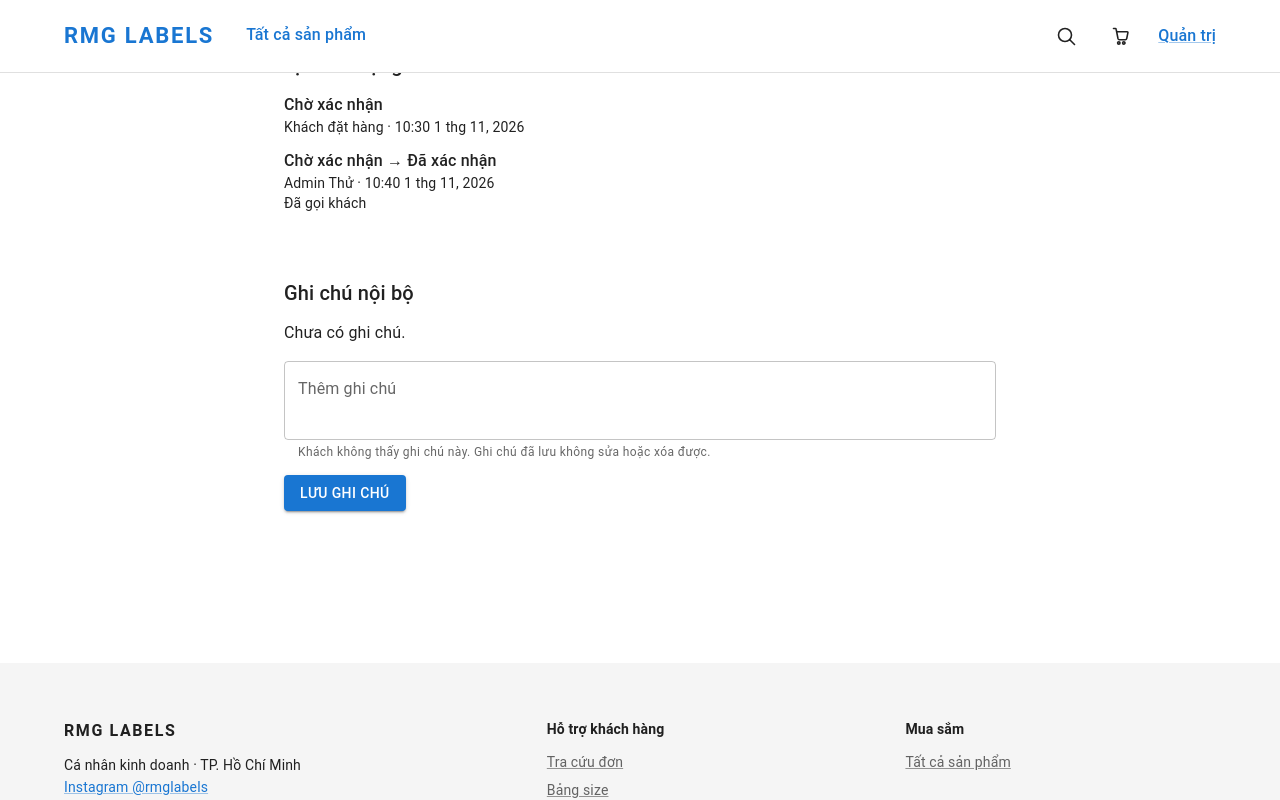
Test case: internal notes › saves a trimmed note with a key, clears the draft and shows it after the refetch
(page scrolled)
Type "  Đã gọi, khách đồng ý  " into the text box labelled "Thêm ghi chú" at [640, 400], box [298,378,982,424]
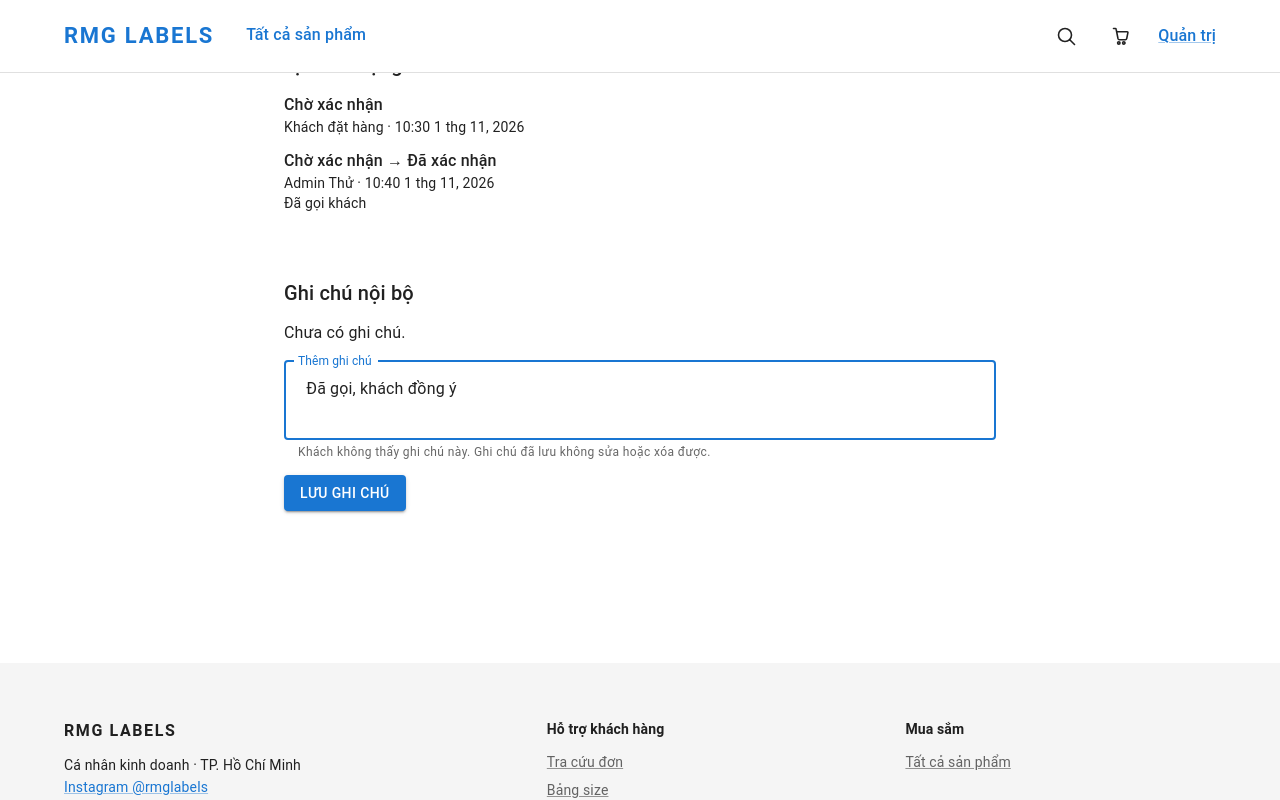
Click the button "Lưu ghi chú" at [345, 493], box [284,475,406,511]
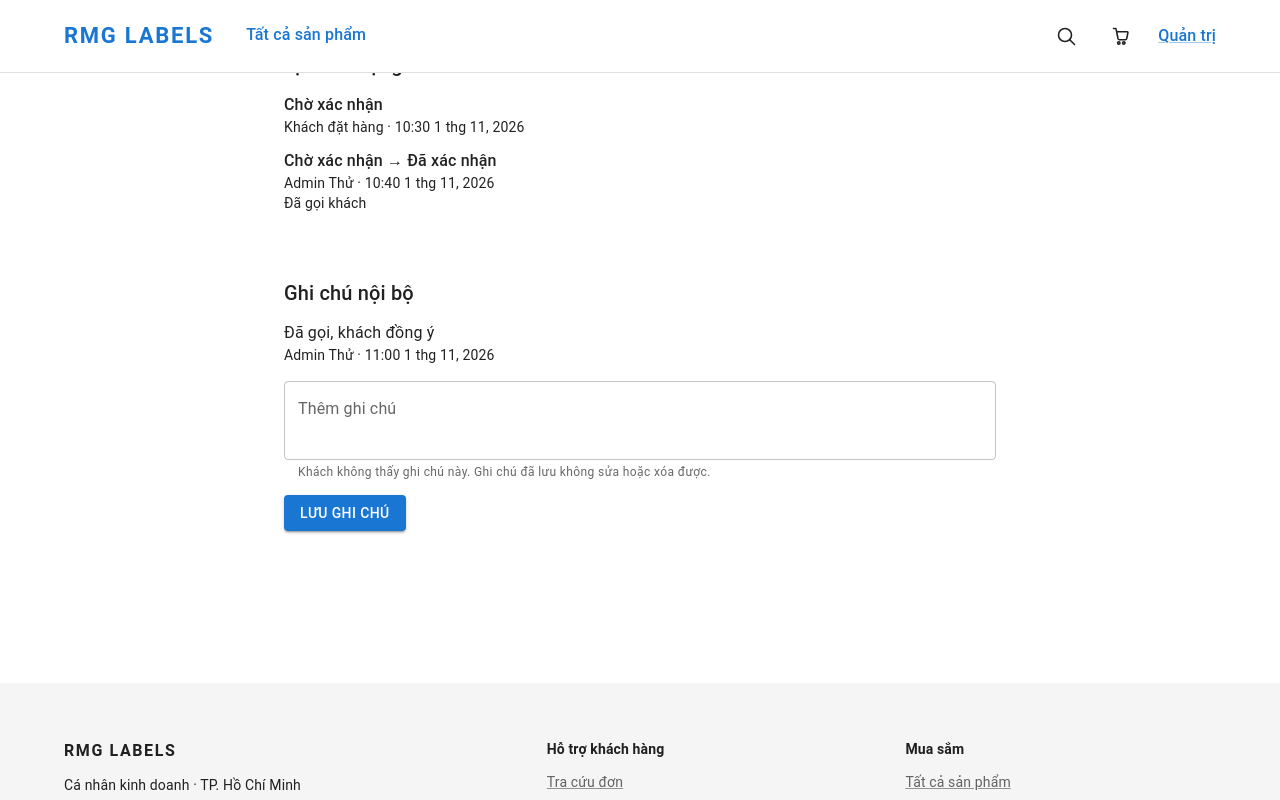
Check: the text "Đã gọi, khách đồng ý" is shown, box [284,323,434,342]
Check: the text box labelled "Thêm ghi chú" is empty, box [298,398,982,444]
